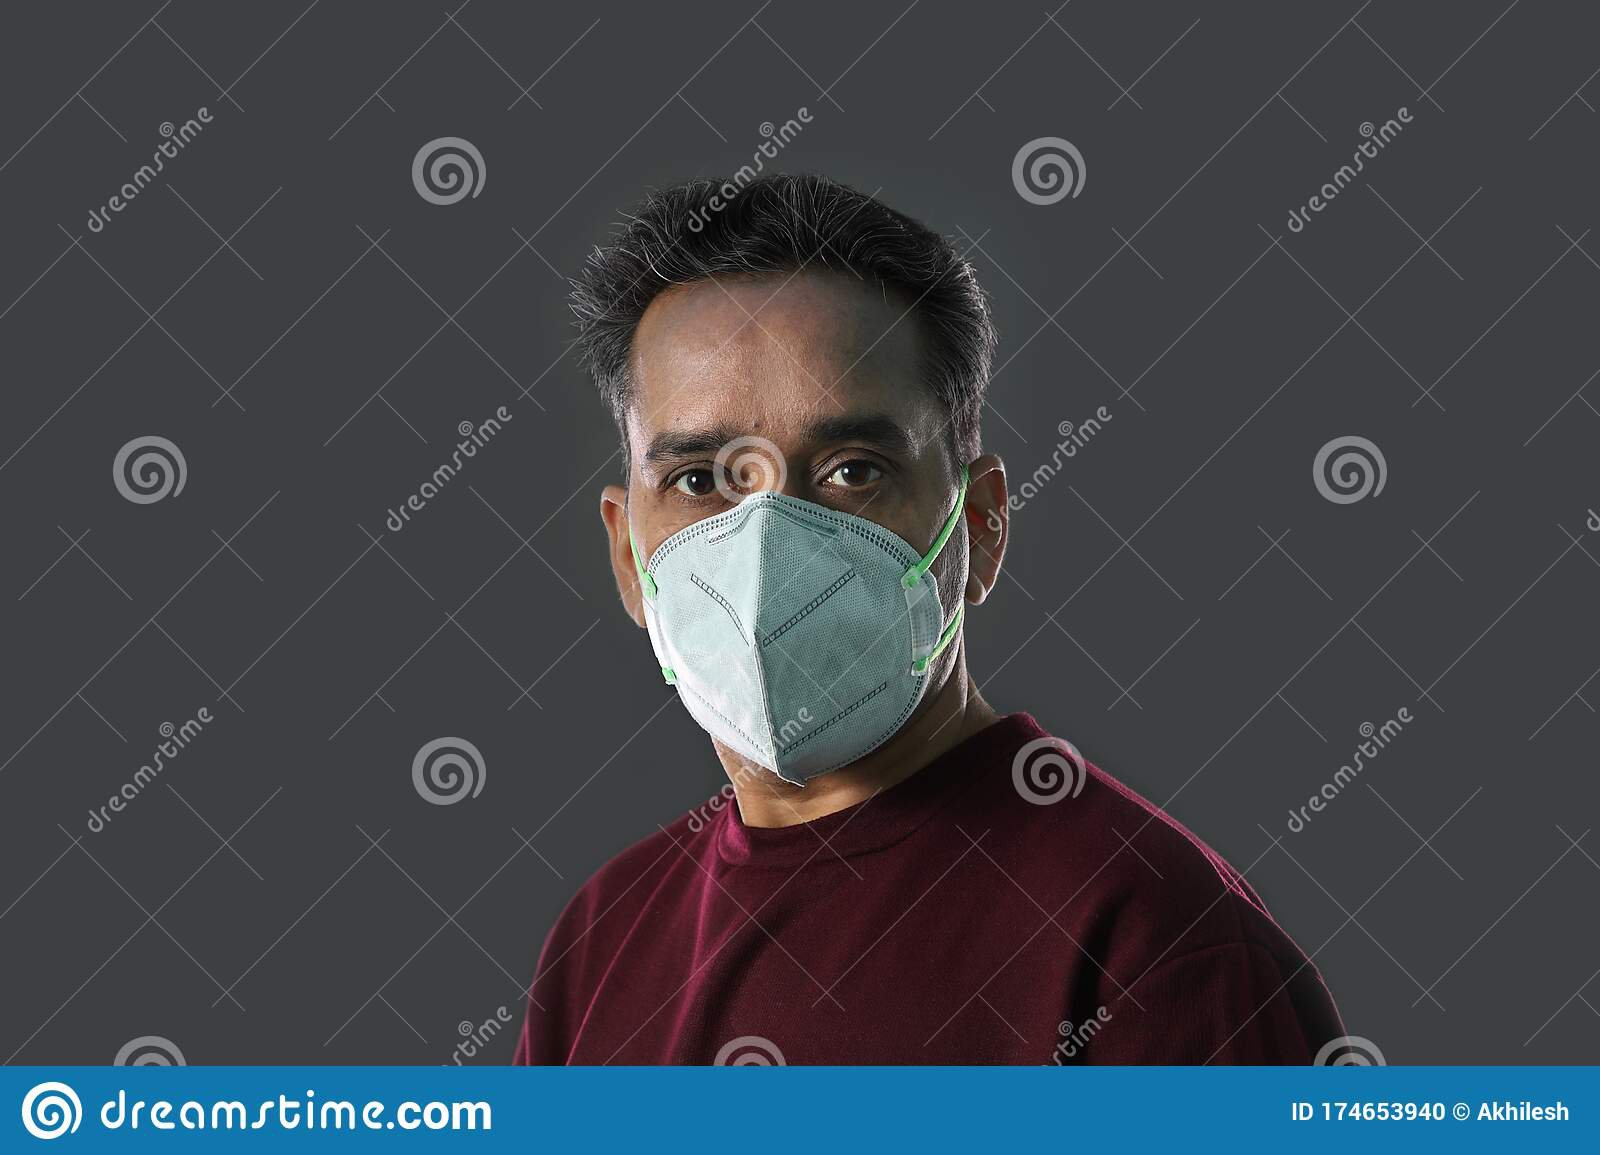mask: (546, 178, 1031, 794)
